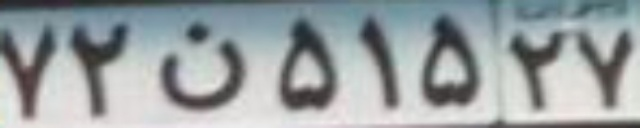1: (353, 16, 403, 108)
2: (65, 19, 130, 119), (507, 29, 564, 111)
5: (414, 13, 486, 106), (279, 18, 340, 110)
7: (0, 18, 62, 119), (574, 26, 636, 107)
non: (153, 20, 246, 110)
